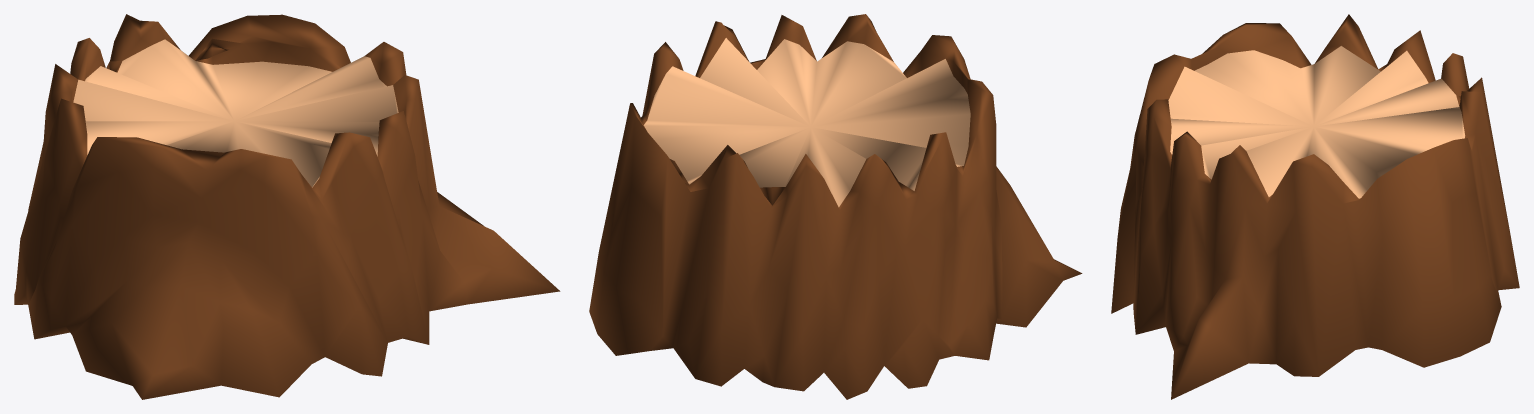
File: TreeStump.fbx
3 renders of one model, left to right at view 1: azimuth 30°, elevation 25°; view 2: azimuth 150°, elevation 25°; view 3: azimuth 270°, elevation 25°, orthographic. The views are drawn at different scales.
Parts seen in each view (by area): view 1: Tree trunk; view 2: Tree trunk; view 3: Tree trunk.
Boxes of the visible parts, bbox=[...] form: Tree trunk: bbox=[14, 14, 560, 399]; Tree trunk: bbox=[589, 14, 1082, 399]; Tree trunk: bbox=[1111, 14, 1519, 399].
Bounding box in the file's own units: 227 × 114 × 198.
